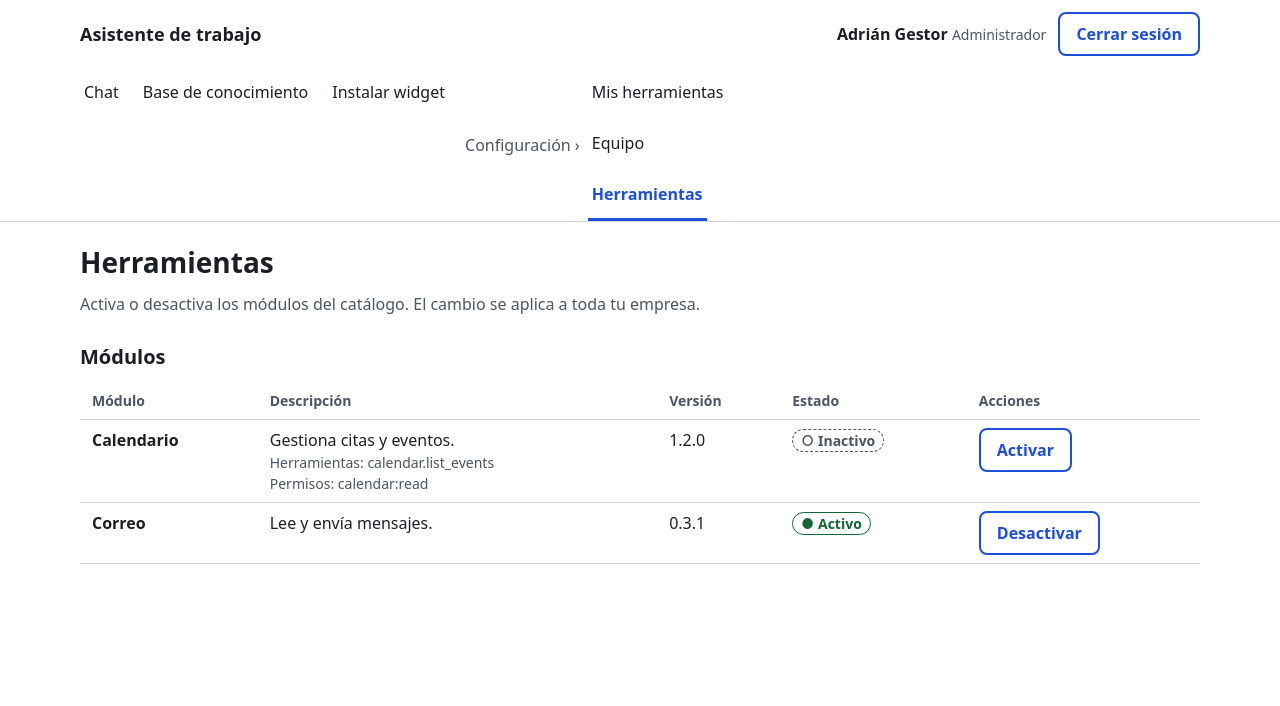
Test: ToolsPage: activating and deactivating › activates a module after confirming, and Cancelar sends nothing
Check: the table named "Módulos disponibles para tu empresa" is shown, box [80,382,1200,564]
Click the button named "Activar «Calendario»" at (1025, 450), box [979,428,1072,472]
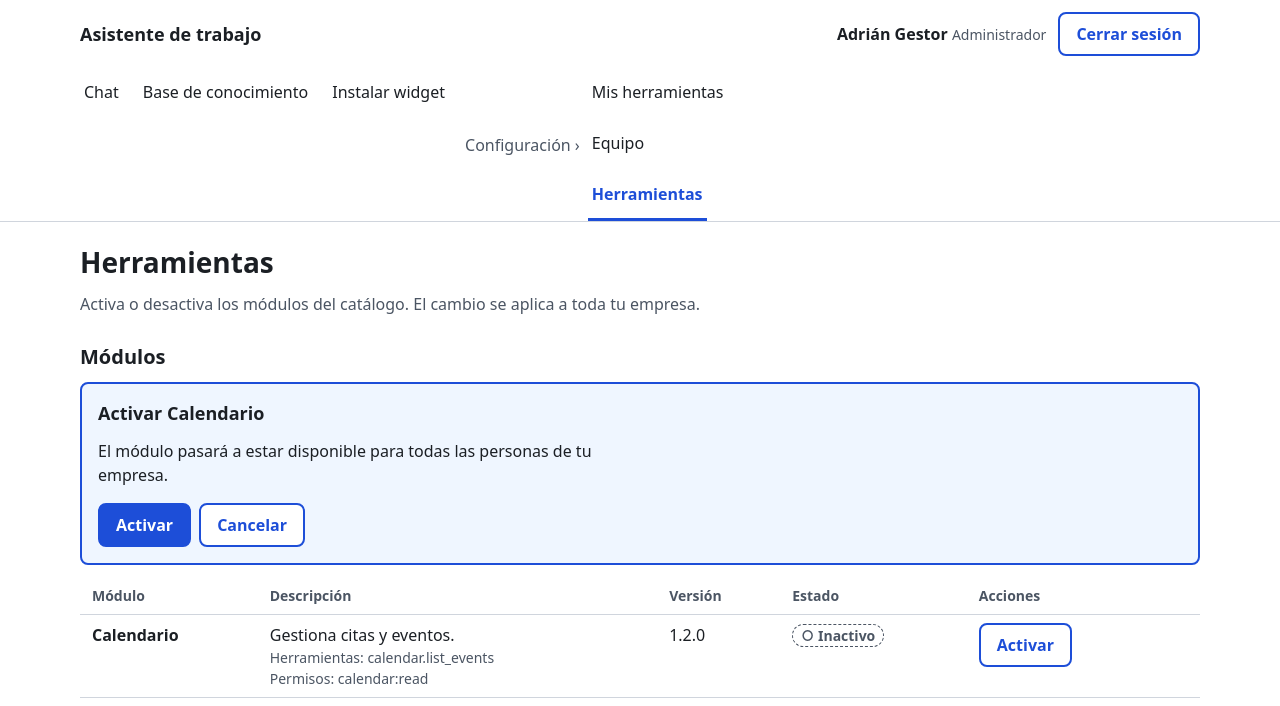
Click the button "Cancelar" at (252, 525), box [199,503,305,547]
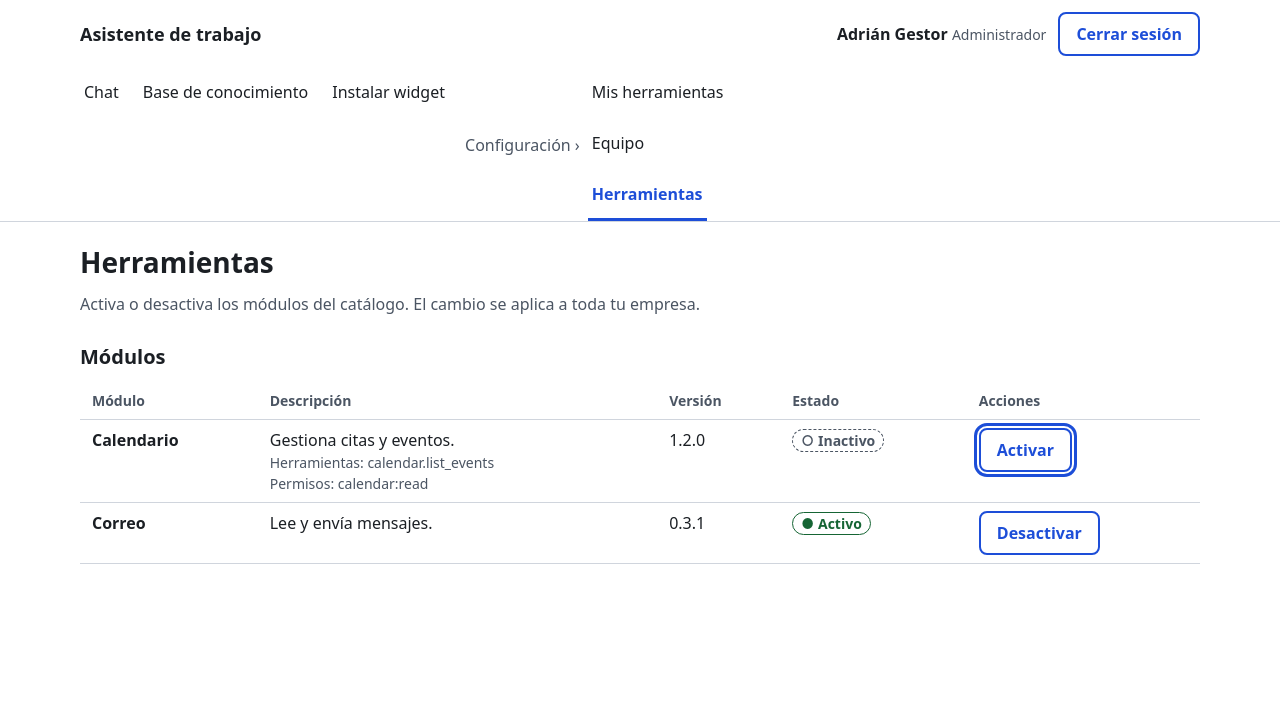
Check: the heading "Activar Calendario" is gone
Click the button named "Activar «Calendario»" at (1025, 450), box [979,428,1072,472]
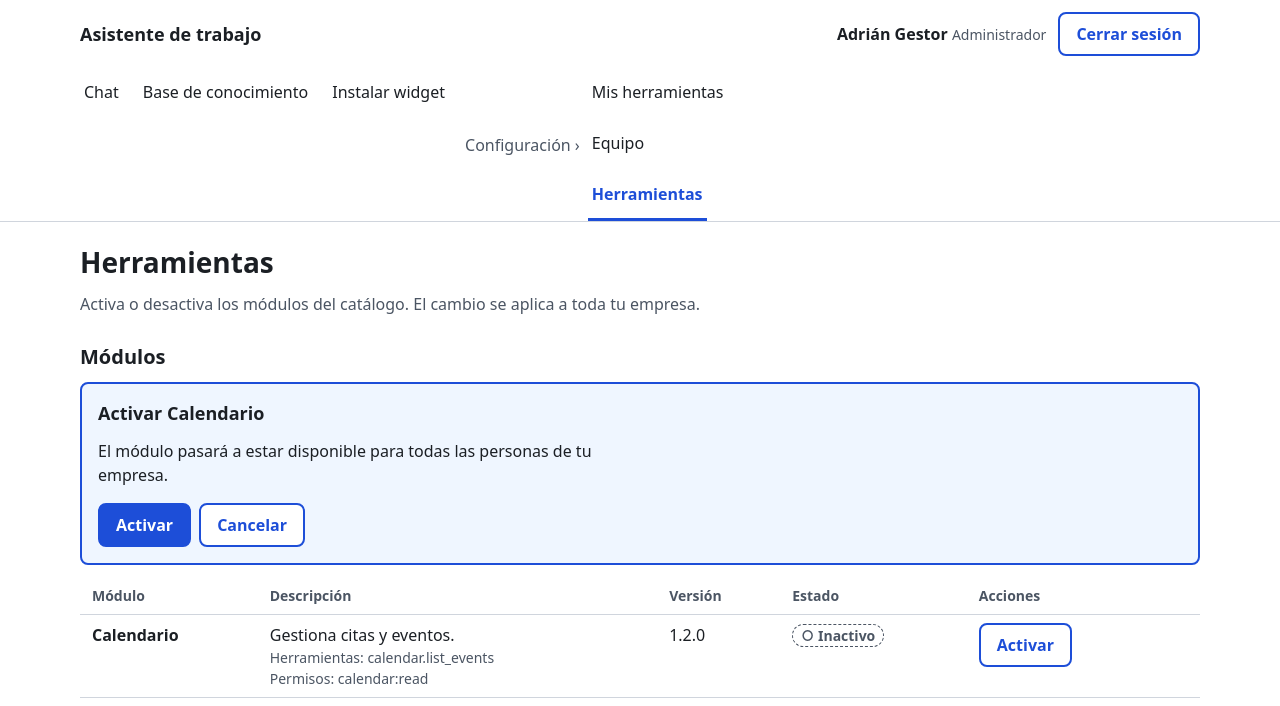
Click the button "Activar" below "Activar Calendario" at (145, 525), box [98,503,191,547]
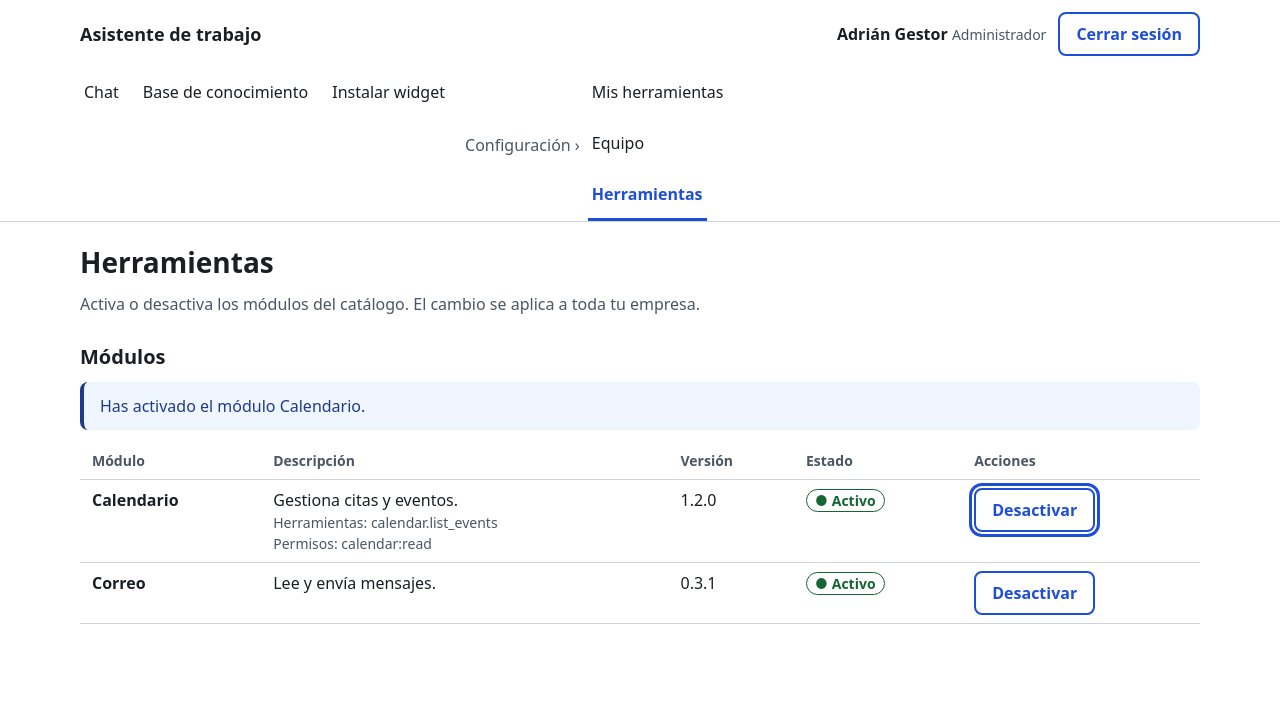
Check: the cell "● Activo" in the row of "Gestiona citas y eventos." is shown, box [832,491,876,510]
Check: the text "Has activado el módulo Calendario." is shown, box [80,382,1200,430]
